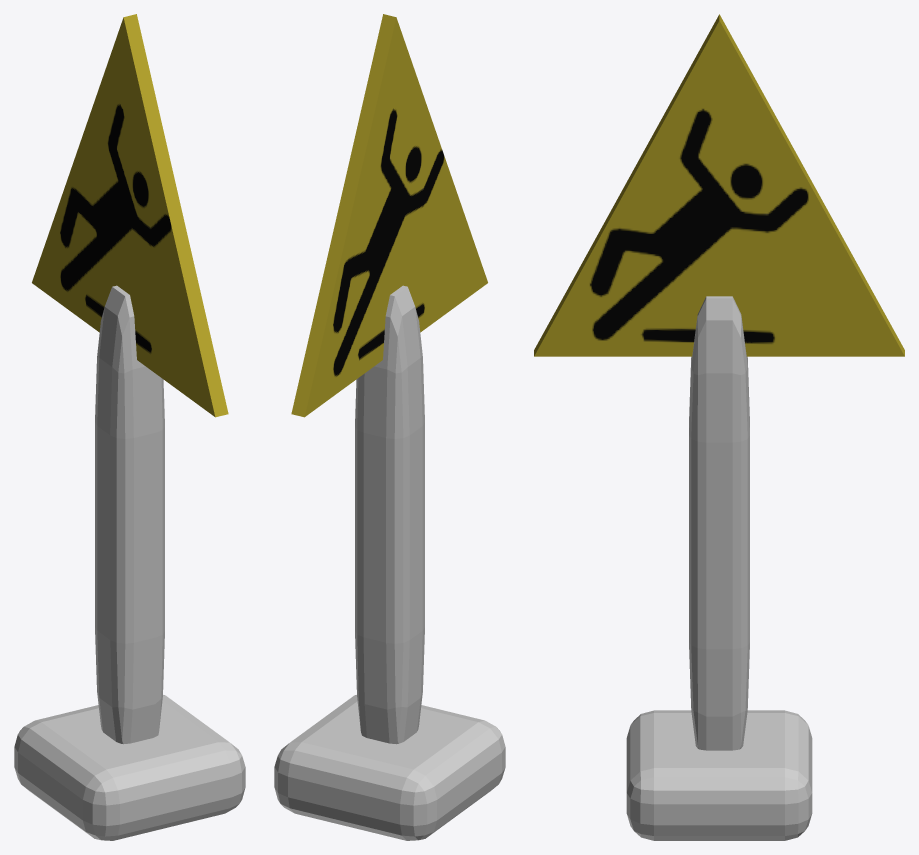
Rendered from sIGNAL.fbx.
3 views of the same model, side by side, from view 1: azimuth 30°, elevation 25°; view 2: azimuth 150°, elevation 25°; view 3: azimuth 270°, elevation 25° (orthographic).
Visible parts, largest first — view 1: Cube.001, Plane; view 2: Cube.001, Plane; view 3: Plane, Cube.001.
Boxes of the visible parts, x1=… form: Cube.001: x1=14, y1=285, x2=245, y2=840; Plane: x1=32, y1=14, x2=228, y2=417; Cube.001: x1=274, y1=285, x2=505, y2=840; Plane: x1=291, y1=14, x2=487, y2=417; Plane: x1=534, y1=14, x2=904, y2=356; Cube.001: x1=626, y1=296, x2=812, y2=840.
Bounding box in the file's own units: 200 × 945 × 400.
